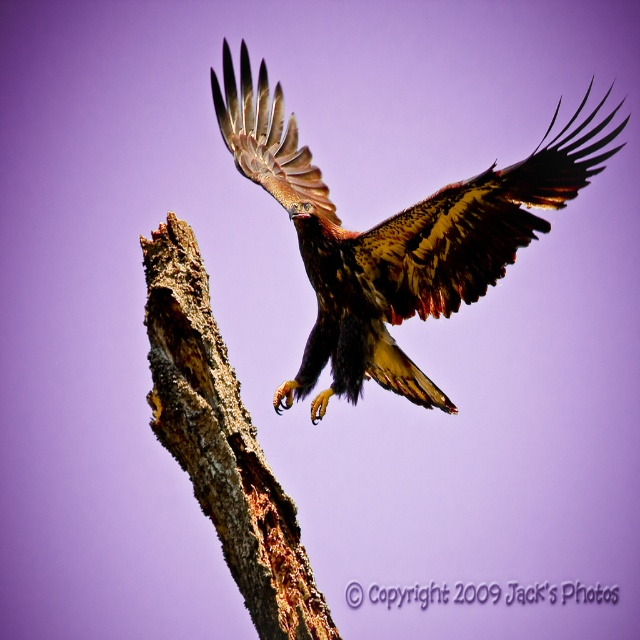Eagle: (210, 33, 631, 423)
